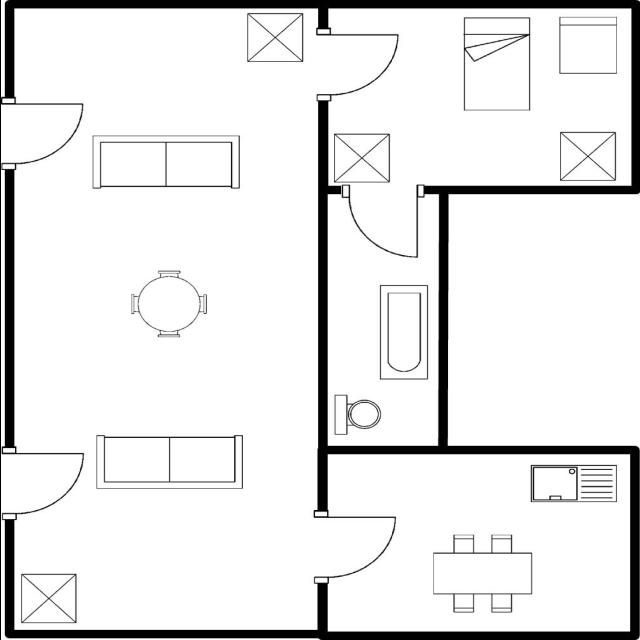bed: (458, 12, 535, 114)
coffee_table: (17, 569, 80, 627), (556, 127, 620, 183), (332, 130, 392, 186), (245, 10, 305, 64)
dining_table: (428, 530, 536, 616)
large_sink: (332, 391, 384, 439)
large_sofa: (89, 429, 248, 492), (86, 128, 246, 190)
round_table: (126, 264, 212, 344)
sink: (526, 461, 622, 506)
small_sofa: (556, 12, 620, 76)
tub: (375, 280, 431, 382)
